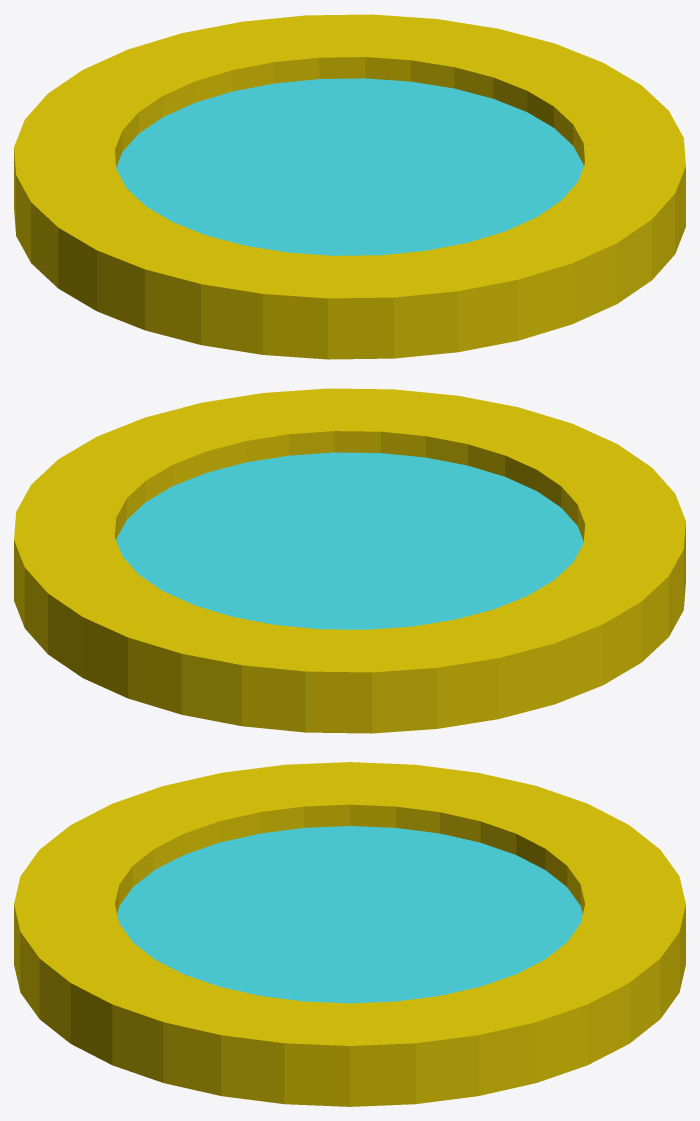
The model's file is monocle.fbx.
3 views of the same model, one above another, from view 1: azimuth 30°, elevation 25°; view 2: azimuth 150°, elevation 25°; view 3: azimuth 270°, elevation 25° (orthographic).
Parts seen in each view (by area): view 1: Circle; view 2: Circle; view 3: Circle.
Part boxes in pixels (left/top/right/bottom): Circle: left=14, top=14, right=685, bottom=359; Circle: left=14, top=388, right=685, bottom=733; Circle: left=14, top=762, right=685, bottom=1106.
Bounding box in the file's own units: 2 × 0.2 × 2.
